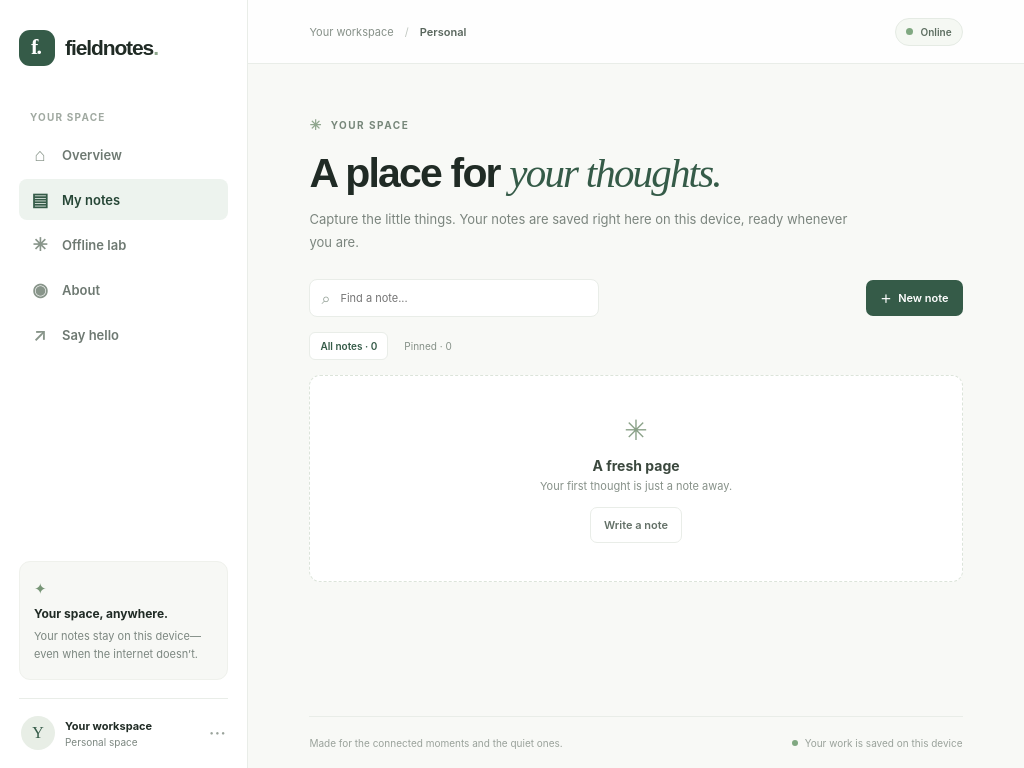
it: keeps playground interactions in local storage
The image size is (1024, 768).
Click the link "✳ Offline lab" at (79, 244), box [32,234,126,255]
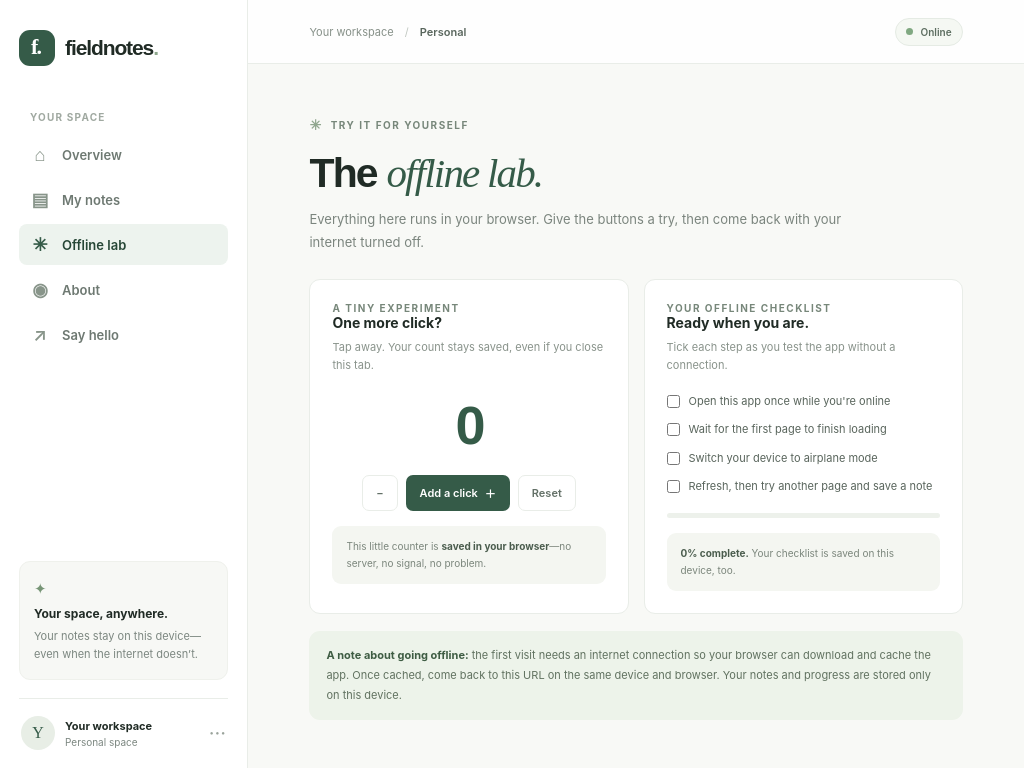
Click the button "Add a click ＋" at (458, 493), box [406,475,510,511]
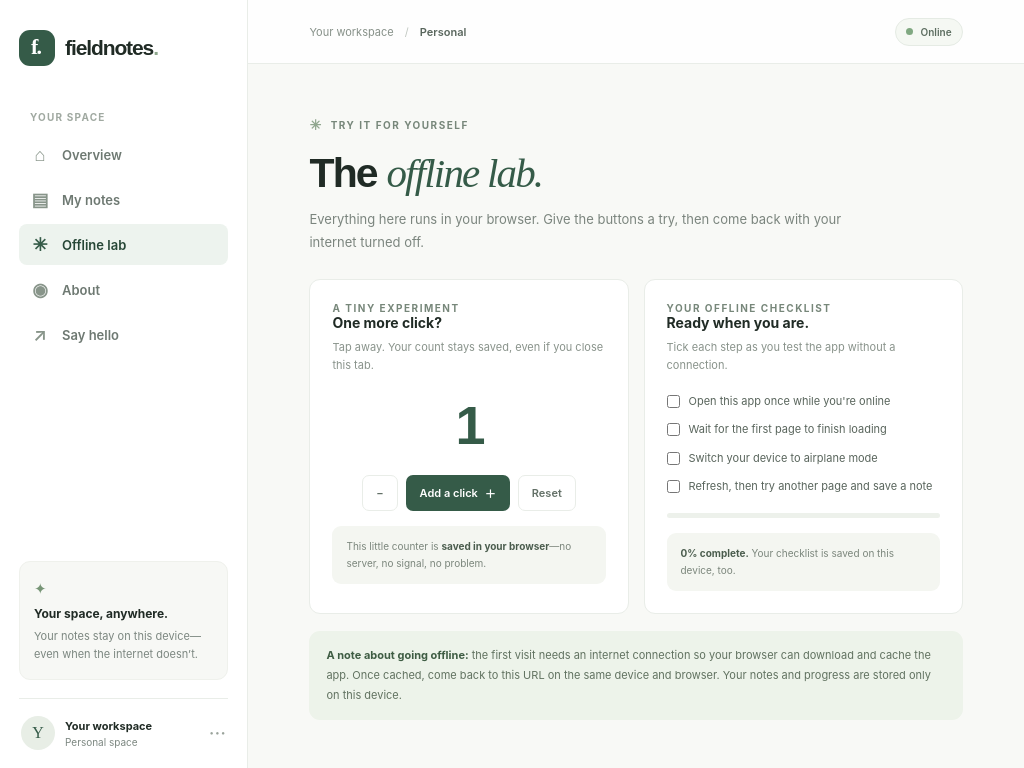
Check: the text "1" is shown, box [455,395,482,455]
